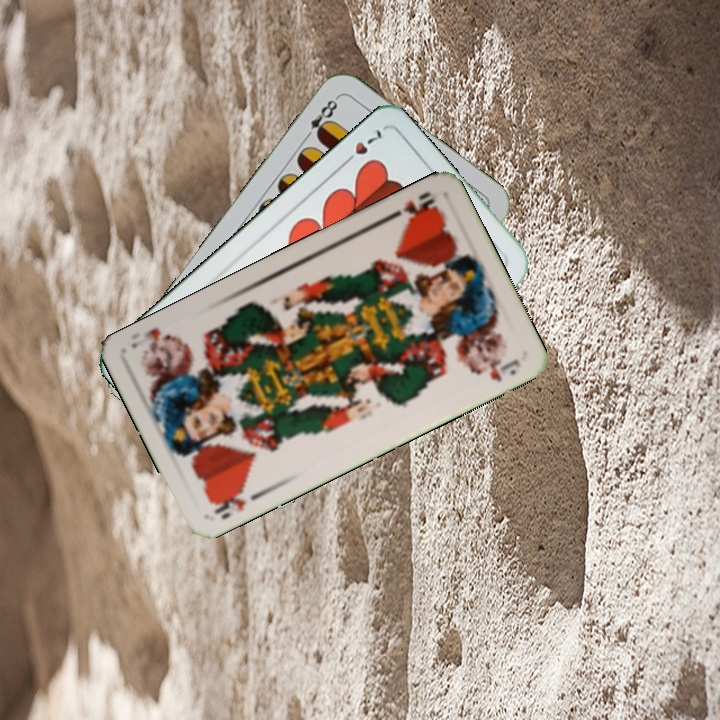E8: (299, 93, 341, 143)
H7: (338, 125, 385, 169)
HO: (205, 483, 265, 522), (383, 187, 440, 223)
